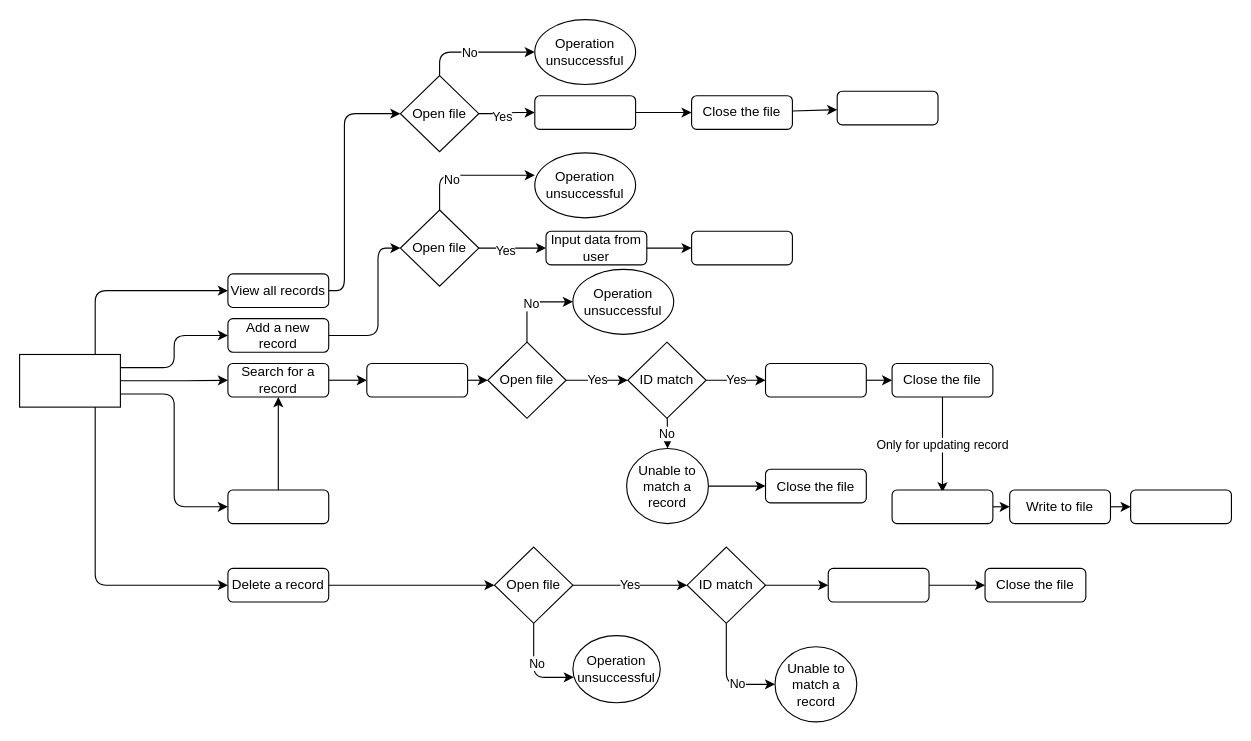
Image size: 1251x741. Some labels were removed from this diagram. The centre of each missing label's shape, as x and y in pixels:
"Close file" goes at (x=1180, y=506).
"Delete record" goes at (x=878, y=584).
"Display all records" goes at (x=887, y=107).
"Display the record" goes at (x=815, y=379).
"Input ID from user" goes at (x=417, y=379).
"Open the file" goes at (x=942, y=506).
"Read data from file" goes at (x=585, y=112).
"Update a record" goes at (x=278, y=506).
"User Input" goes at (x=69, y=380).
"Write data to file" goes at (x=741, y=247).
